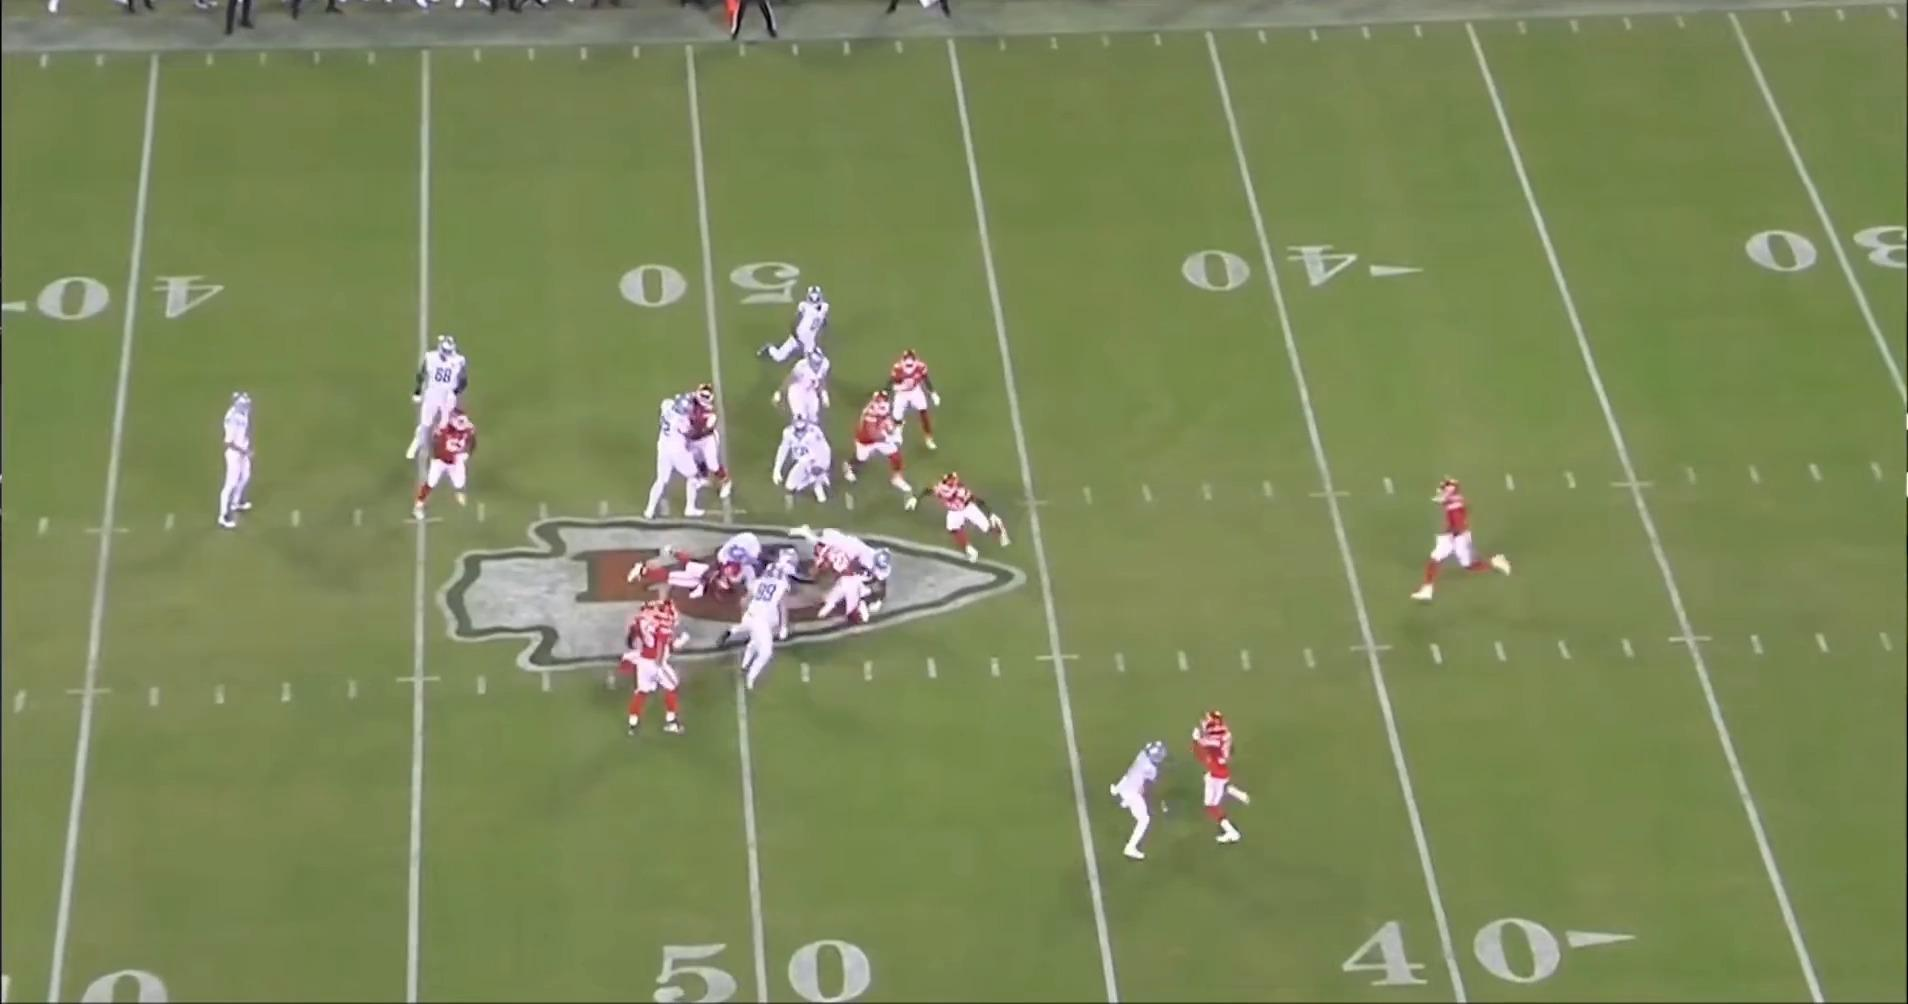player: (1409, 473, 1512, 602), (621, 598, 696, 737), (1181, 708, 1251, 849), (1109, 734, 1181, 860), (640, 387, 703, 530), (849, 391, 925, 509), (665, 377, 734, 502), (799, 519, 892, 611), (933, 466, 1013, 572), (405, 411, 474, 526), (411, 335, 476, 455), (733, 563, 791, 696), (810, 532, 879, 640), (877, 349, 943, 461), (209, 387, 257, 535), (769, 282, 847, 368), (627, 543, 734, 601), (778, 418, 840, 516), (777, 347, 846, 435), (618, 596, 655, 675), (715, 532, 775, 564), (776, 546, 799, 615)
ref: (720, 0, 786, 43)
